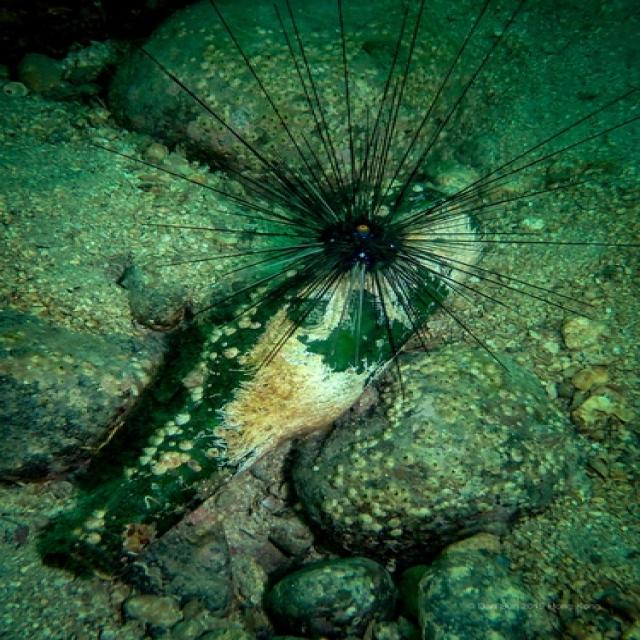Urchin: (90, 13, 632, 394)
